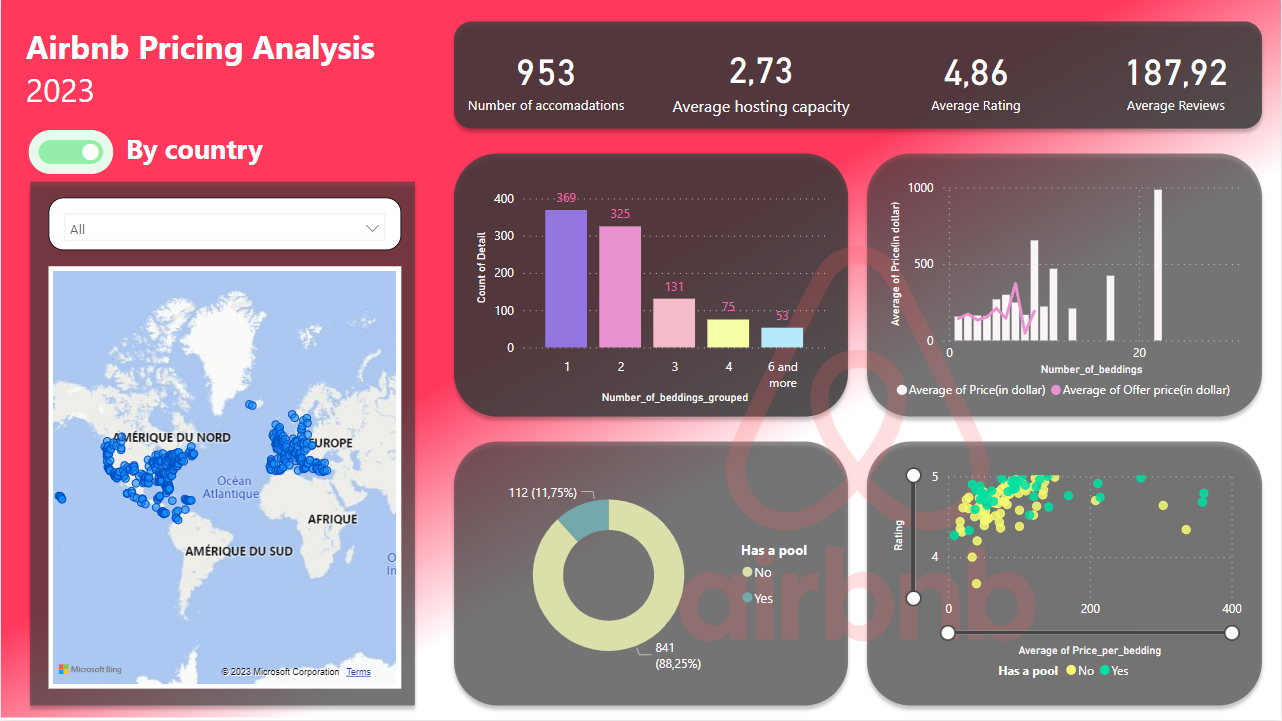

The dashboard page shown, as its layout file describes it:
{"tool":"powerbi","page":{"name":"Main","canvas":[1280,720],"ordinal":0},"visuals":[{"type":"scatterChart","fields":{"X":["Avg(data_airbnb.Price(in dollar))"],"Y":["data_airbnb.Rating"],"Series":["data_airbnb.Size_beddings"],"Size":["Sum(data_airbnb.Size_beddings)"]},"box":[60,451.4,324.3,237.1],"z":0},{"type":"card","title":"Numbre_of_accomodations","fields":{"Values":["CountNonNull(data_airbnb.Detail)"]},"box":[444.7,28,200,100],"z":1000},{"type":"card","title":"Average_hosting_capacity","fields":{"Values":["Avg(data_airbnb.Hosting_capacity)"]},"box":[659.7,28,200,100],"z":2000},{"type":"textbox","title":"Title","box":[20,20,380,100],"z":3000},{"type":"card","title":"Average_rating","fields":{"Values":["Avg(data_airbnb.Rating)"]},"box":[874.7,28,200,100],"z":4000},{"type":"card","title":"Average_number_reviews","fields":{"Values":["Avg(data_airbnb.Review_number)"]},"box":[1089.7,28,170,100],"z":5000},{"type":"lineClusteredColumnComboChart","fields":{"Category":["data_airbnb.Number_of_beddings"],"Y":["Avg(data_airbnb.Price(in dollar))"],"Y2":["Avg(data_airbnb.Offer price(in dollar))"]},"box":[884.3,174.3,361.4,234.3],"z":6000},{"type":"donutChart","fields":{"Y":["CountNonNull(data_airbnb.Detail)"],"Category":["data_airbnb.Pool_char"]},"box":[470,462.9,360,225.7],"z":7000},{"type":"scatterChart","fields":{"X":["Avg(data_airbnb.Price_per_bedding)"],"Y":["data_airbnb.Rating"],"Series":["data_airbnb.Pool_char"]},"box":[884,463,362,226],"z":8000},{"type":"donutChart","fields":{"Y":["CountNonNull(data_airbnb.Detail)"],"Category":["data_airbnb.Size_beddings"]},"box":[60,207.5,323.8,227.5],"z":9000},{"type":"bookmarkNavigator","title":"Toggle","box":[27.1,130,85.7,44.3],"z":10000},{"type":"textbox","title":"Global","box":[120,125,102.9,48.6],"z":11000},{"type":"clusteredColumnChart","title":"Count of Detail by Number_of_beddings_grouped","fields":{"Category":["data_airbnb.Number_of_beddings_grouped"],"Y":["CountNonNull(data_airbnb.Detail)"]},"box":[470,174.3,360,234.3],"z":13000}]}

Visuals, with their boxes in screenshot pixels (x1, y1, x2, y2), scaled from the page's 1280x720 canvas onto the 1282x721 screenshot:
scatterChart - Avg(data_airbnb.Price(in dollar)) x data_airbnb.Rating: crop(60, 452, 385, 689)
"Numbre_of_accomodations" card: crop(445, 28, 646, 128)
"Average_hosting_capacity" card: crop(661, 28, 861, 128)
"Title" textbox: crop(20, 20, 401, 120)
"Average_rating" card: crop(876, 28, 1076, 128)
"Average_number_reviews" card: crop(1091, 28, 1262, 128)
lineClusteredColumnComboChart - data_airbnb.Number_of_beddings x Avg(data_airbnb.Price(in dollar)): crop(886, 175, 1248, 409)
donutChart - CountNonNull(data_airbnb.Detail) x data_airbnb.Pool_char: crop(471, 464, 831, 690)
scatterChart - Avg(data_airbnb.Price_per_bedding) x data_airbnb.Rating: crop(885, 464, 1248, 690)
donutChart - CountNonNull(data_airbnb.Detail) x data_airbnb.Size_beddings: crop(60, 208, 384, 436)
"Toggle" bookmarkNavigator: crop(27, 130, 113, 175)
"Global" textbox: crop(120, 125, 223, 174)
"Count of Detail by Number_of_beddings_grouped" clusteredColumnChart: crop(471, 175, 831, 409)
